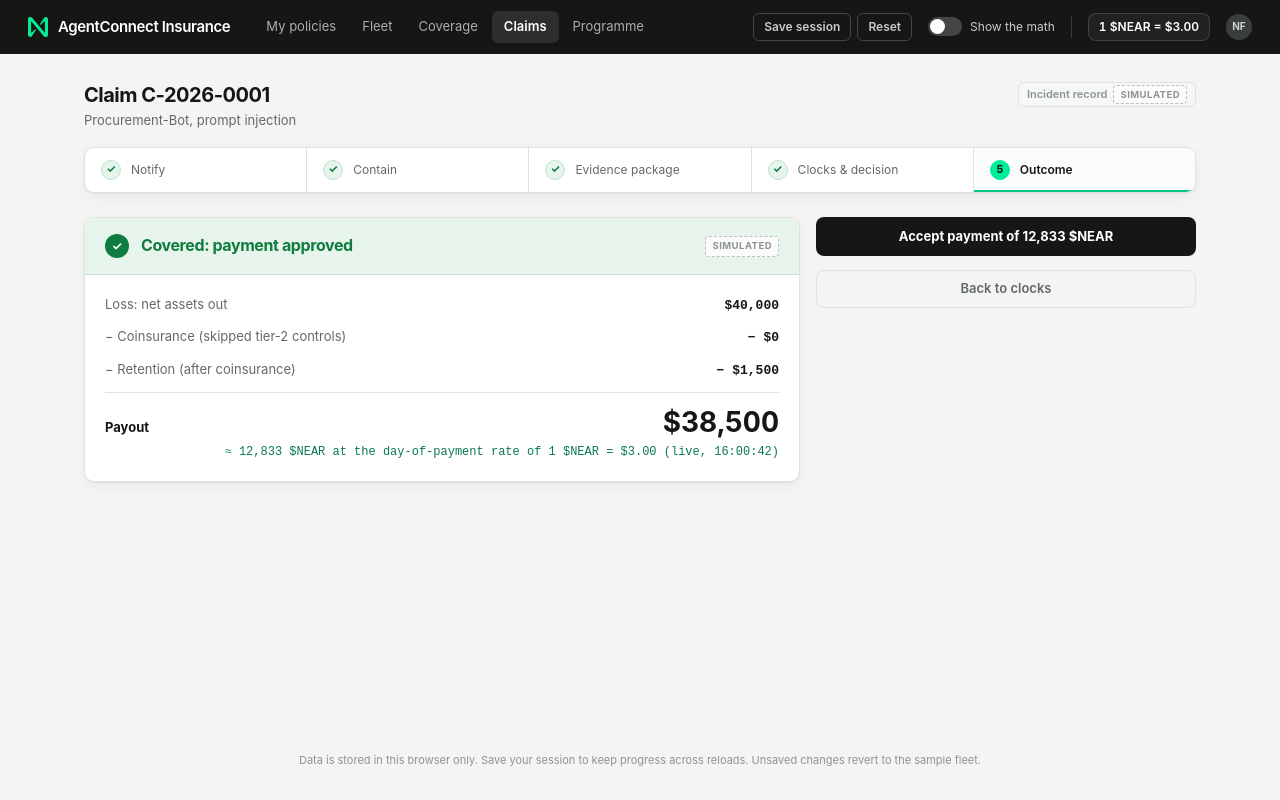
fix #2 — claim settlement at the post-refetch rate › re-adjudicates at the refetched rate: retention, payout and N all move
The width and height of the screenshot is (1280, 800).
Check: the text with test id "outcome-payout" reads "$38,500", box [663,405,779,439]
Click the button with test id "accept-payment".
click(1006, 236)  # box [816,216,1196,256]
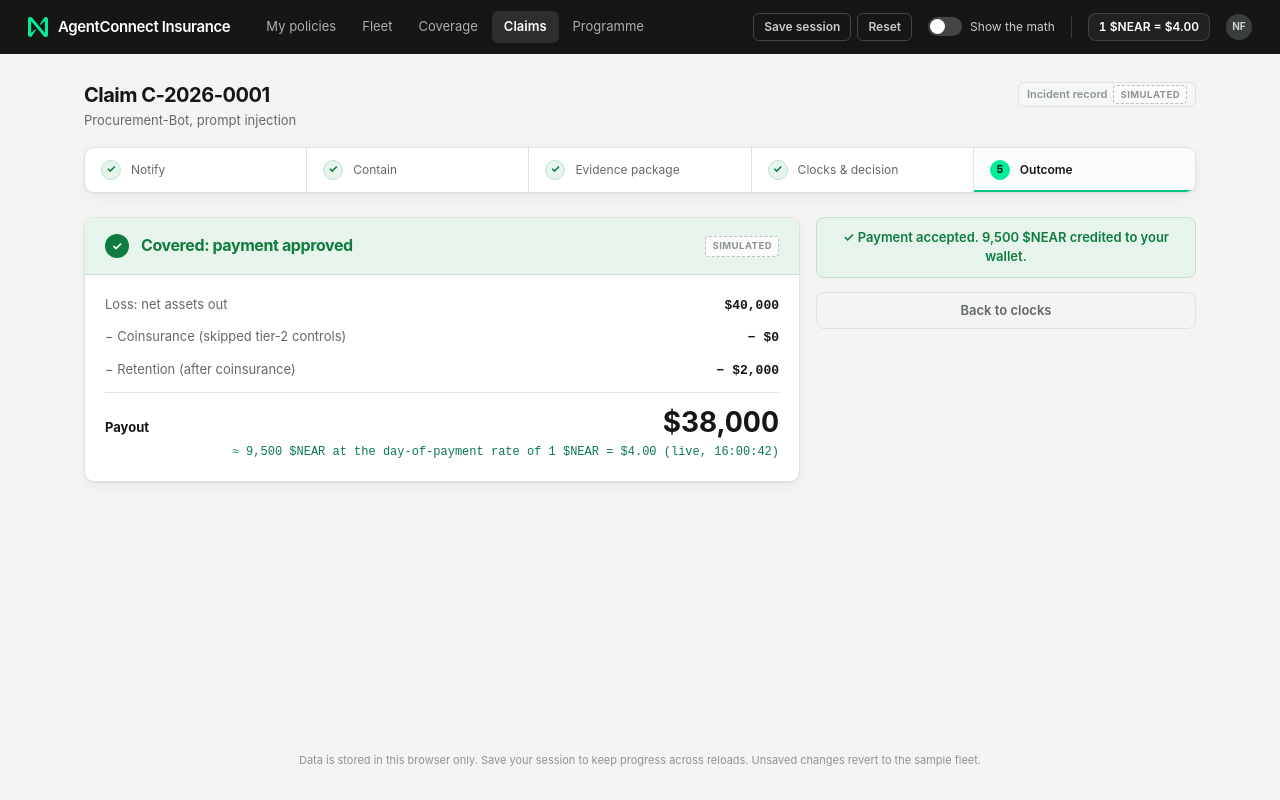
Check: the text "✓ Payment accepted. 9,500 $NEAR credited to your wallet." is shown, box [816,216,1196,278]
